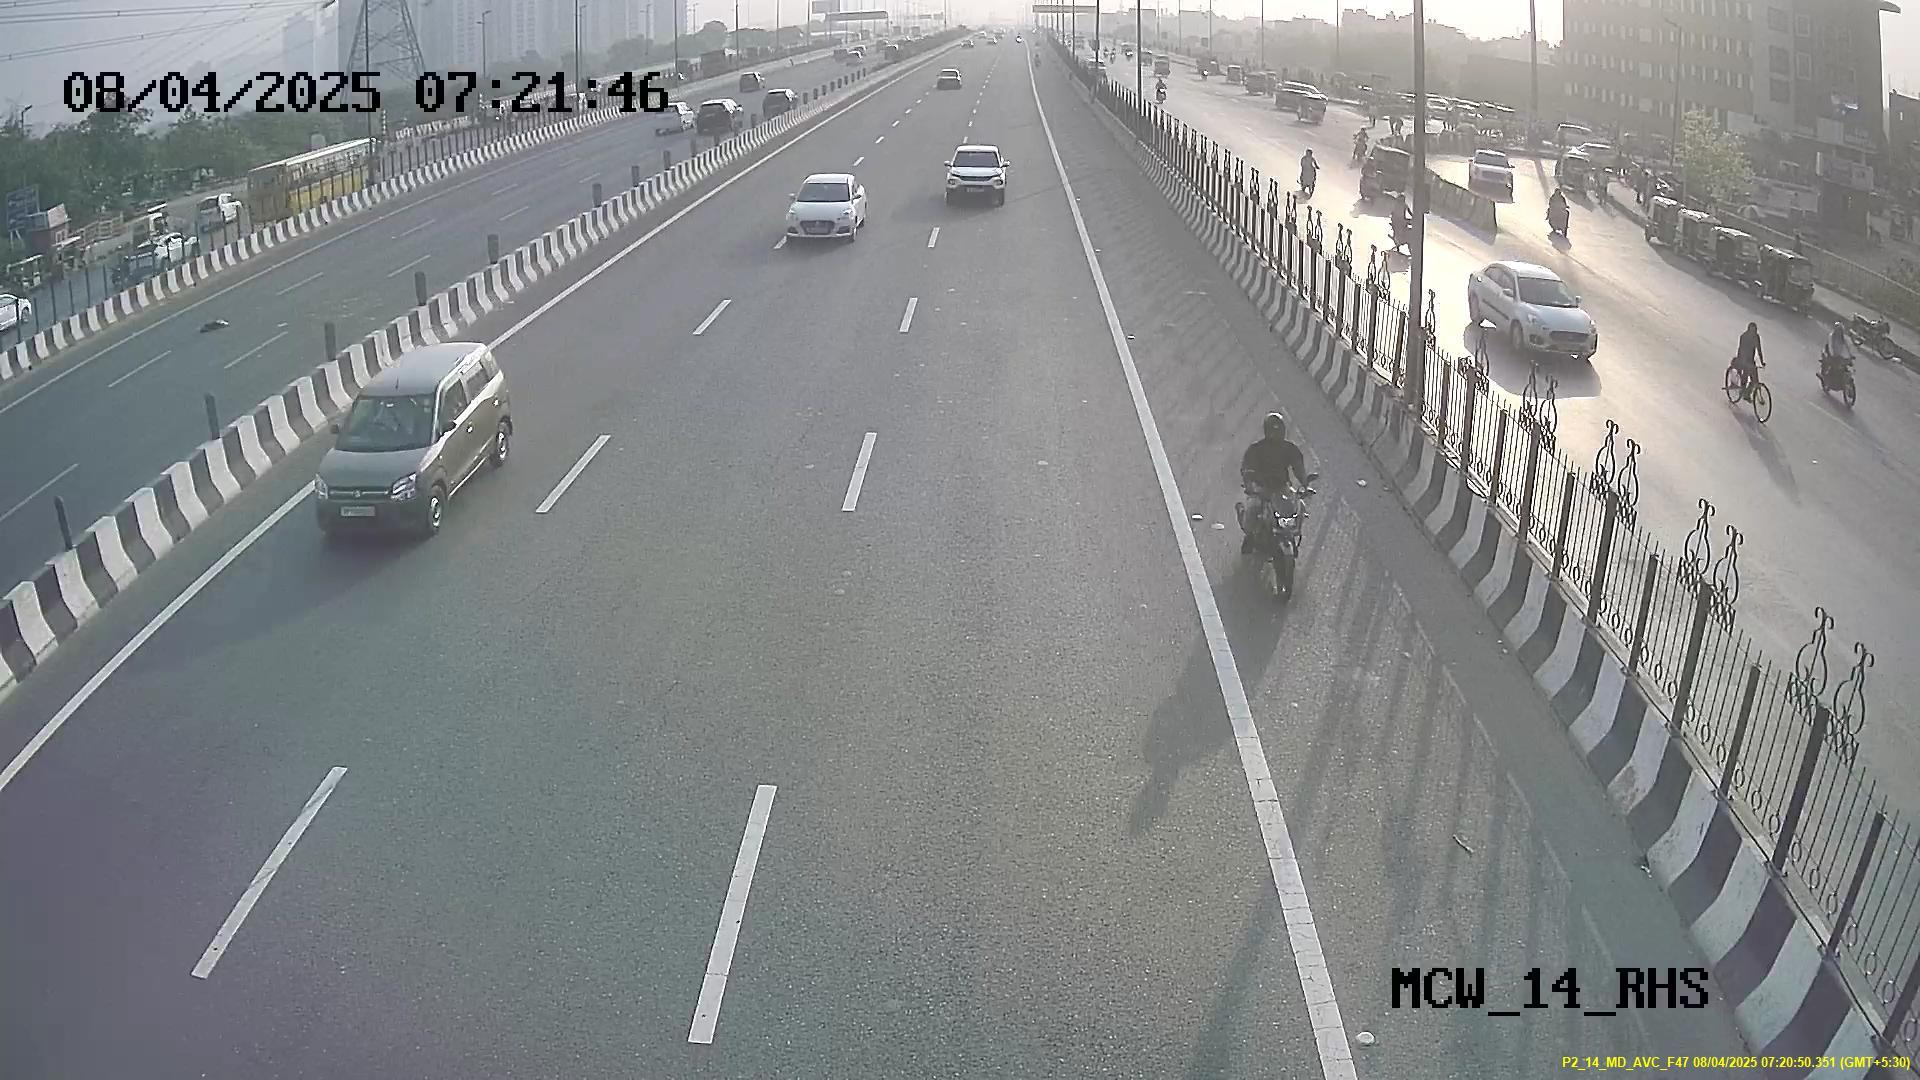bike: (1215, 400, 1323, 595)
car: (309, 360, 481, 538)
